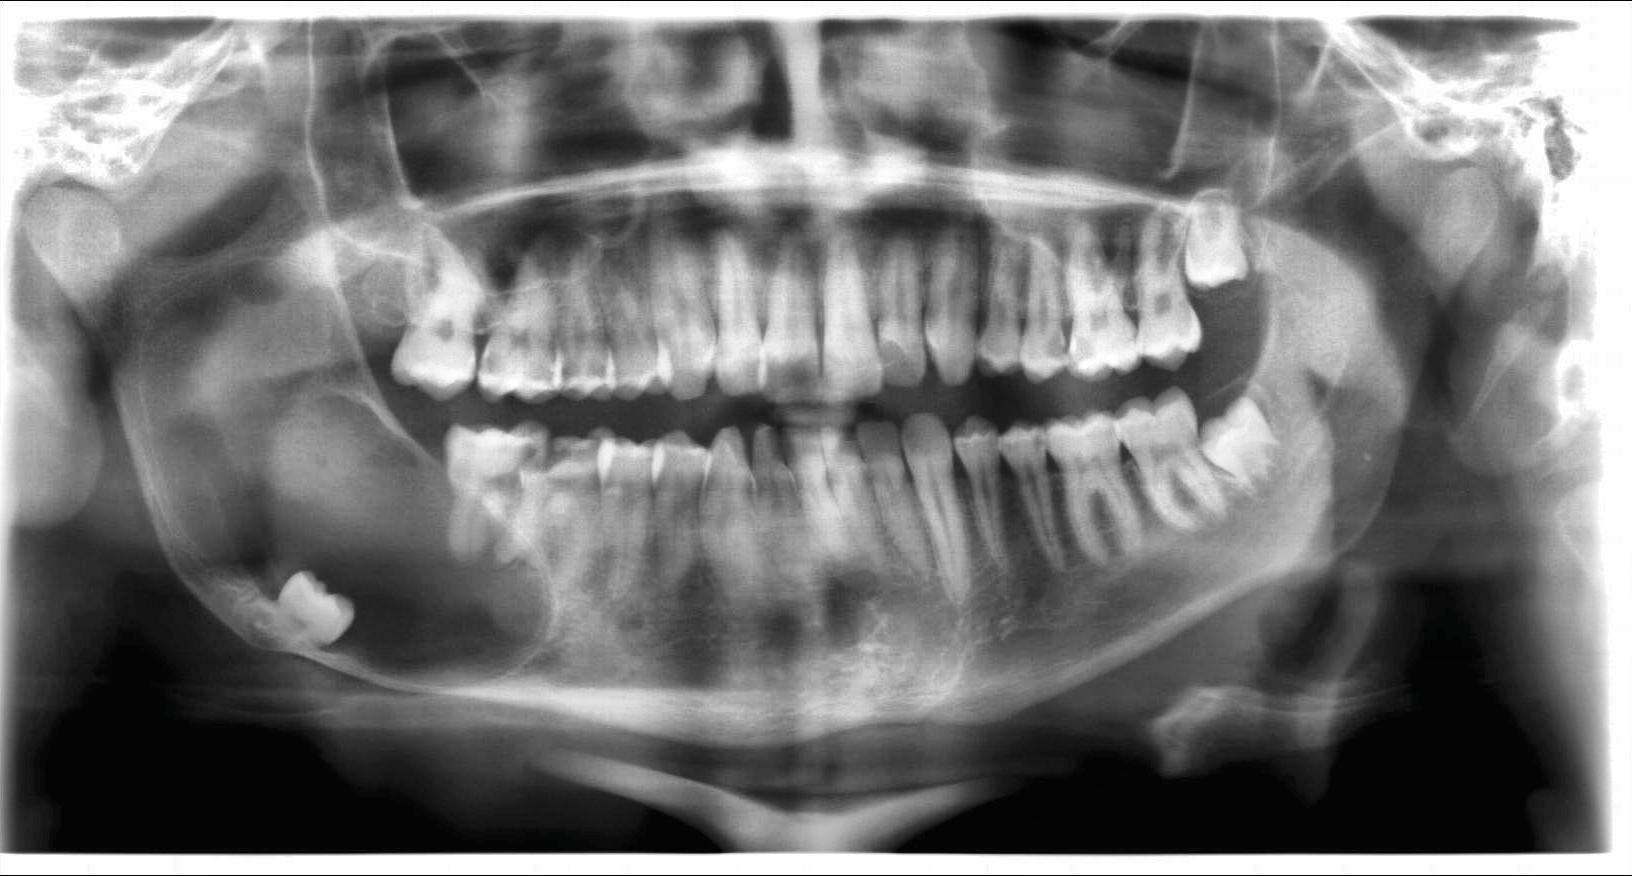dentigeroz: (138, 256, 557, 689)
